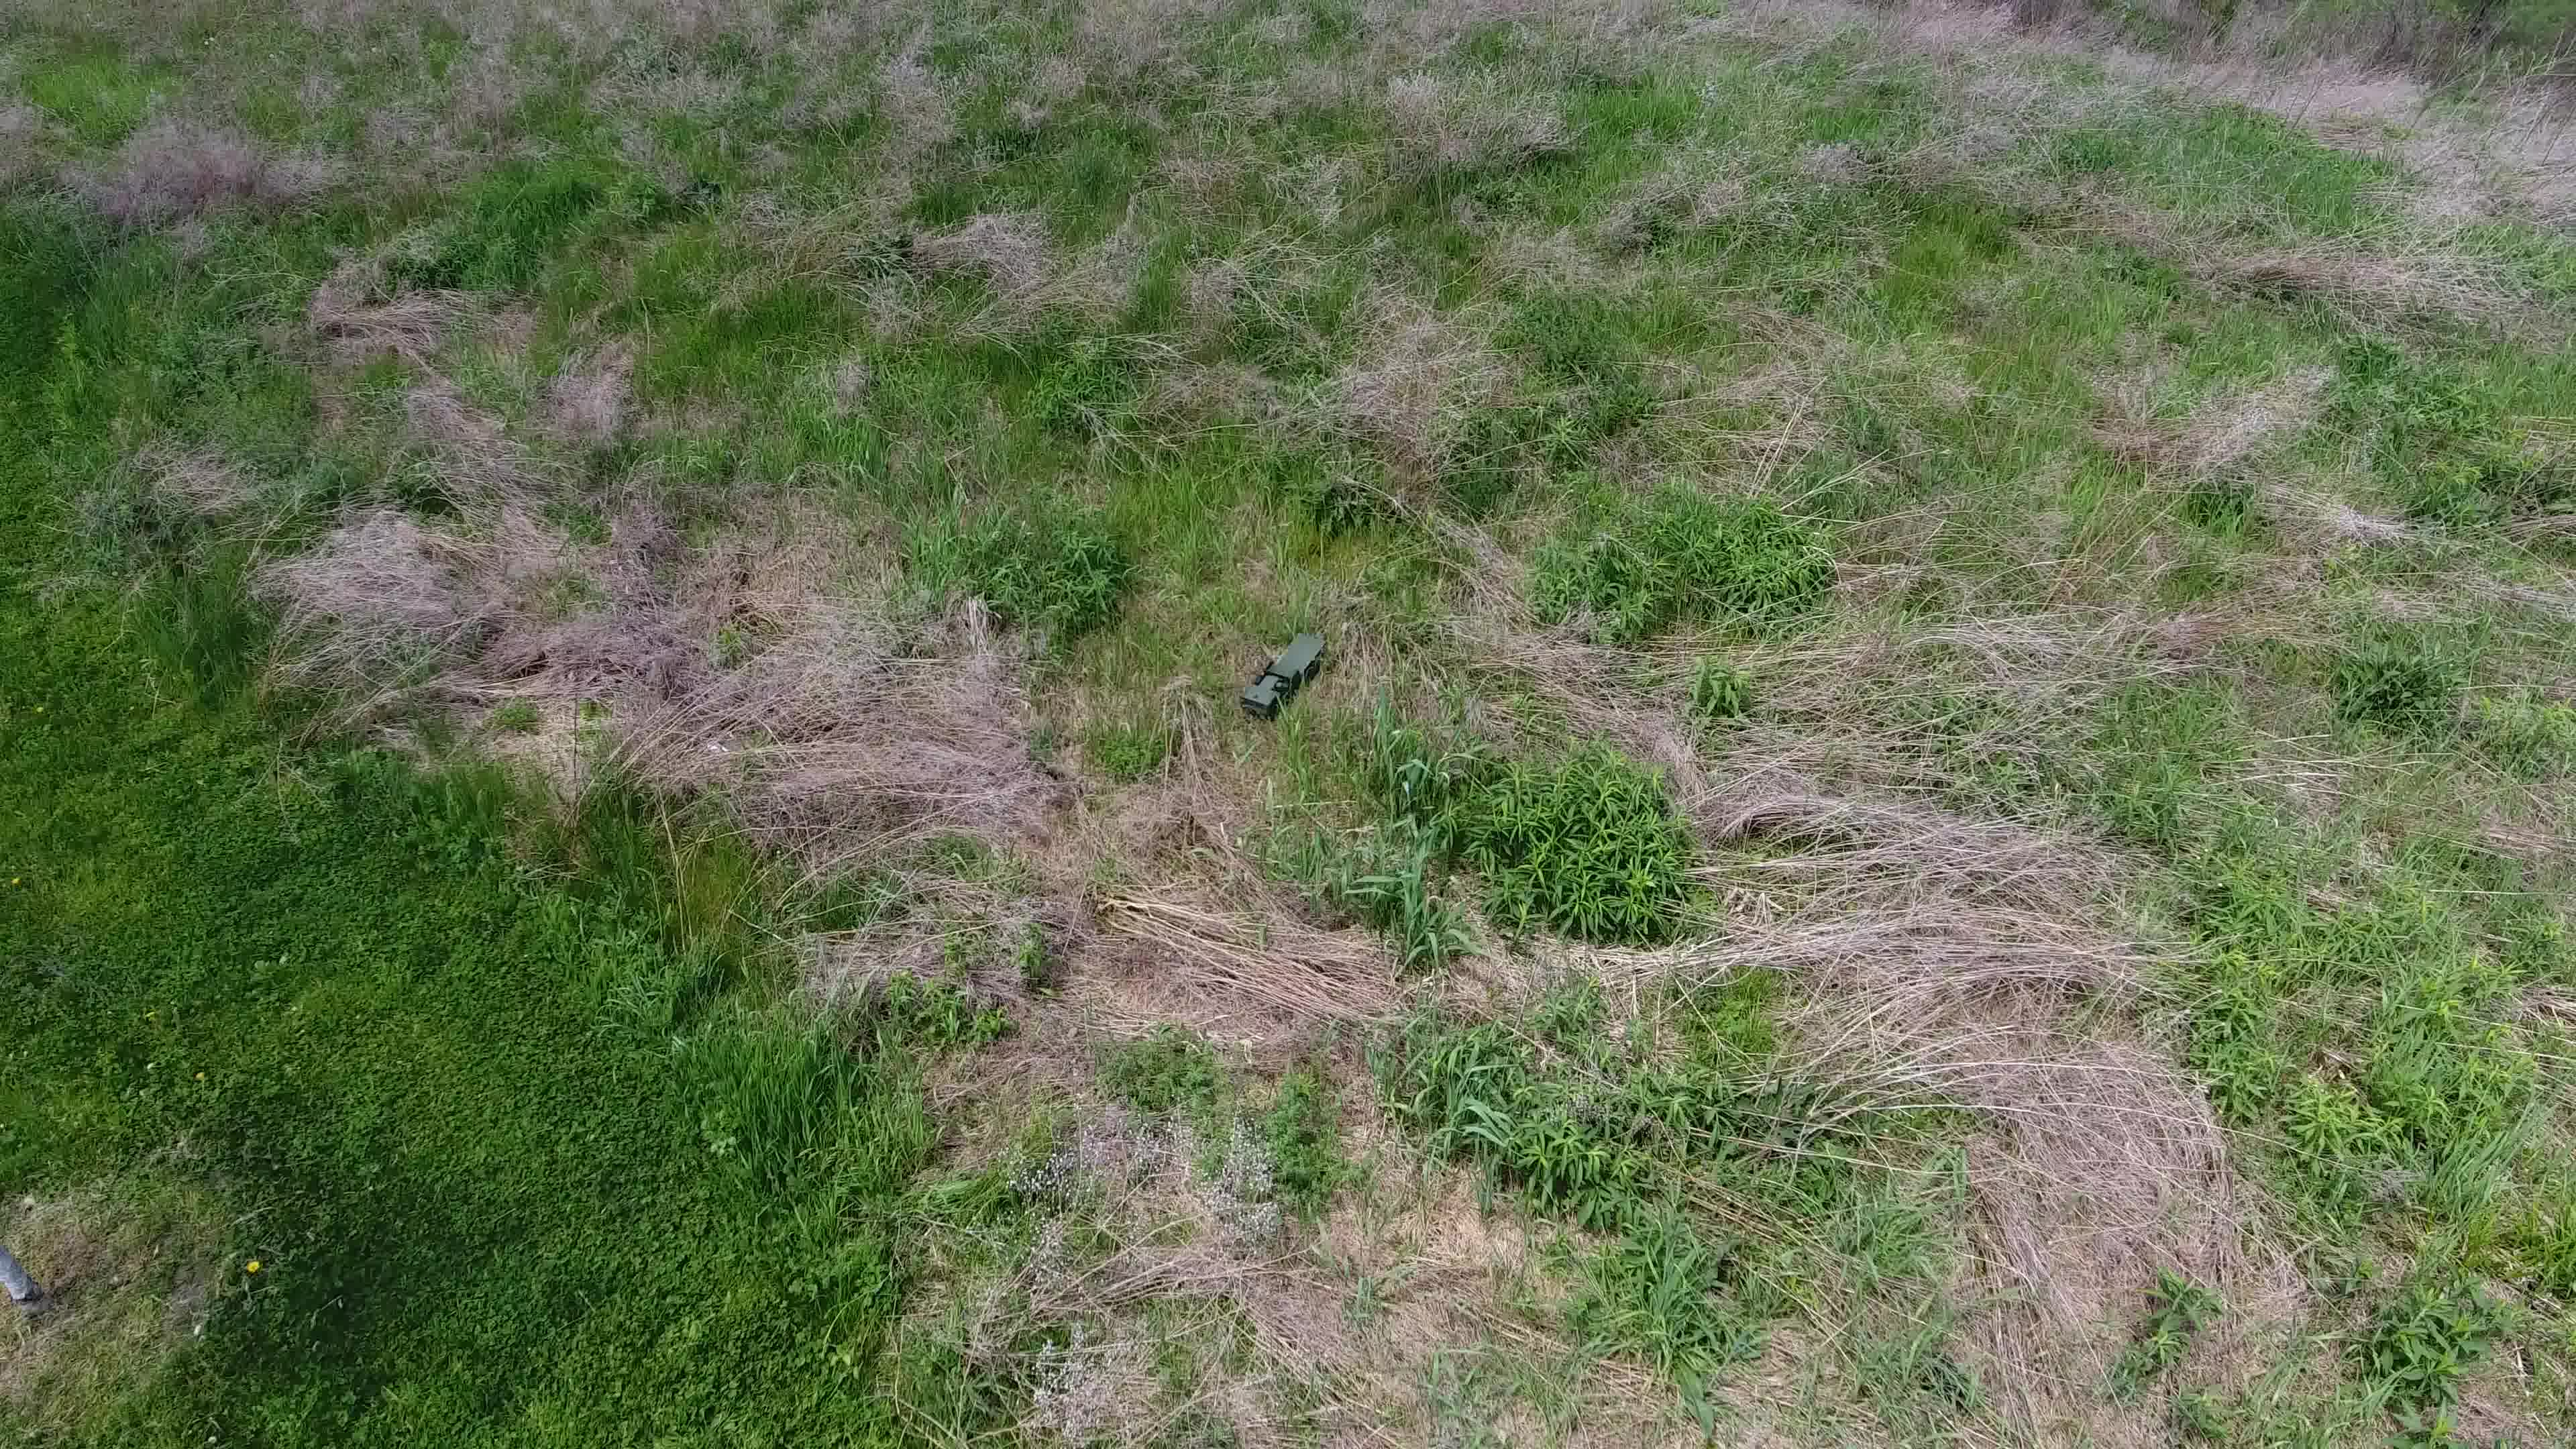transporter9: (1237, 626, 1330, 724)
